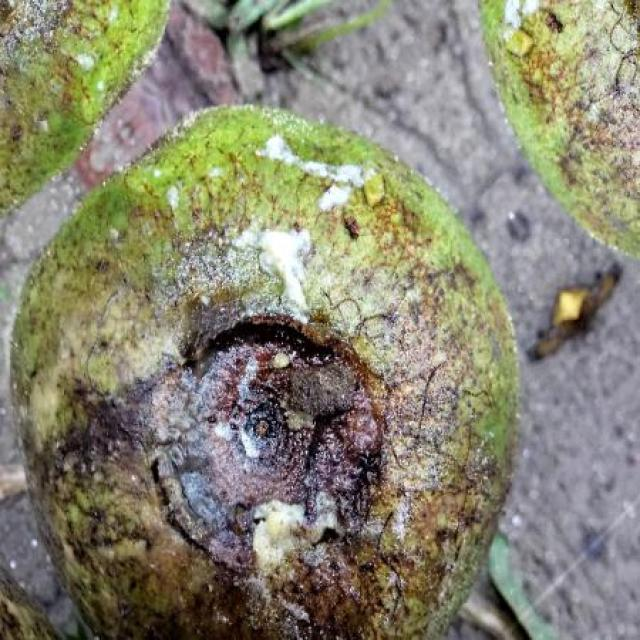Phytopthora: (15, 106, 516, 640), (484, 0, 640, 256), (0, 0, 165, 214)
